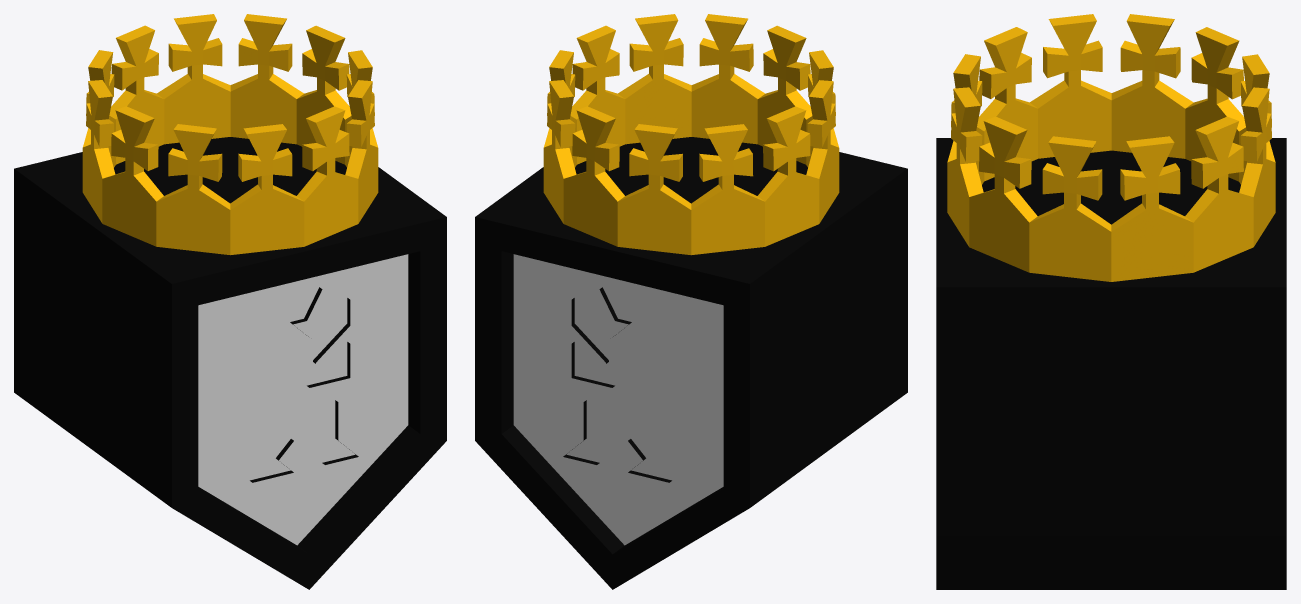
The model's file is berlin-wappen.gltf.
The picture shows the model from 3 angles, left to right: view 1: azimuth 30°, elevation 25°; view 2: azimuth 150°, elevation 25°; view 3: azimuth 270°, elevation 25°; orthographic projection. The views are drawn at different scales.
Visible parts, largest first — view 1: Cube, Circle, Cube.001; view 2: Cube, Circle, Cube.001; view 3: Cube, Circle.
Part boxes in pixels (bbox=[...]): Cube: bbox=[14, 137, 446, 589]; Circle: bbox=[82, 14, 378, 255]; Cube.001: bbox=[198, 254, 408, 545]; Cube: bbox=[475, 137, 907, 589]; Circle: bbox=[543, 14, 839, 255]; Cube.001: bbox=[513, 254, 723, 545]; Cube: bbox=[936, 138, 1286, 589]; Circle: bbox=[947, 14, 1275, 281].
Size of the model in its own units: 2 by 3.18 by 1.99.
